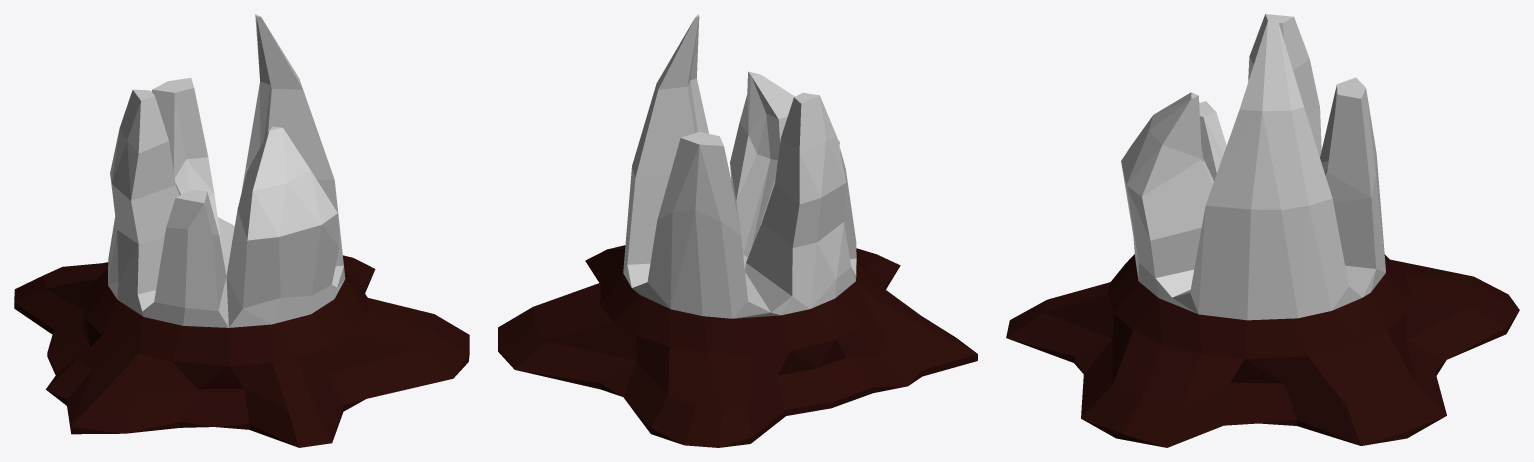
File: crystal_lowpoly.fbx
The picture shows the model from 3 angles, left to right: view 1: azimuth 30°, elevation 25°; view 2: azimuth 150°, elevation 25°; view 3: azimuth 270°, elevation 25°; orthographic projection. The views are drawn at different scales.
Parts seen in each view (by area): view 1: Crystal_lowerpoly, Crystal_lowerpoly.006, Crystal_lowerpoly.001, Crystal_lowerpoly.003, Crystal_lowerpoly.005, Crystal_lowerpoly.002; view 2: Crystal_lowerpoly, Crystal_lowerpoly.001, Crystal_lowerpoly.002, Crystal_lowerpoly.005, Crystal_lowerpoly.006, Crystal_lowerpoly.003; view 3: Crystal_lowerpoly, Crystal_lowerpoly.005, Crystal_lowerpoly.006, Crystal_lowerpoly.002, Crystal_lowerpoly.001, Crystal_lowerpoly.003.
Boxes of the visible parts, x1=… form: Crystal_lowerpoly: x1=14, y1=255, x2=469, y2=447; Crystal_lowerpoly.006: x1=226, y1=126, x2=343, y2=442; Crystal_lowerpoly.001: x1=108, y1=89, x2=179, y2=316; Crystal_lowerpoly.003: x1=142, y1=189, x2=228, y2=327; Crystal_lowerpoly.005: x1=241, y1=14, x2=345, y2=297; Crystal_lowerpoly.002: x1=151, y1=78, x2=234, y2=264; Crystal_lowerpoly: x1=498, y1=245, x2=977, y2=447; Crystal_lowerpoly.001: x1=746, y1=92, x2=855, y2=315; Crystal_lowerpoly.002: x1=632, y1=132, x2=770, y2=318; Crystal_lowerpoly.005: x1=623, y1=14, x2=708, y2=287; Crystal_lowerpoly.006: x1=730, y1=71, x2=839, y2=257; Crystal_lowerpoly.003: x1=837, y1=138, x2=856, y2=275; Crystal_lowerpoly: x1=1006, y1=254, x2=1519, y2=447; Crystal_lowerpoly.005: x1=1159, y1=19, x2=1362, y2=320; Crystal_lowerpoly.006: x1=1006, y1=92, x2=1213, y2=356; Crystal_lowerpoly.002: x1=1320, y1=77, x2=1385, y2=297; Crystal_lowerpoly.001: x1=1248, y1=14, x2=1321, y2=156; Crystal_lowerpoly.003: x1=1199, y1=101, x2=1226, y2=180.
Bounding box in the file's own units: 337 × 252 × 321.
